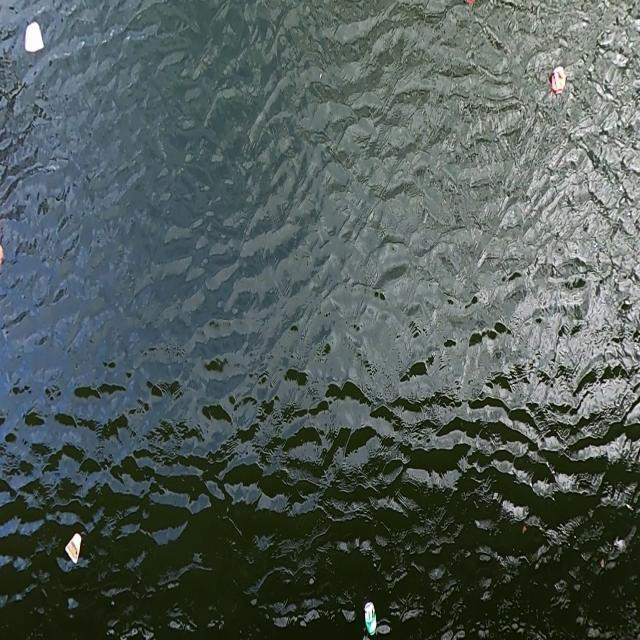Non plastique: (18, 20, 52, 59), (549, 61, 570, 106), (360, 597, 380, 640), (65, 529, 84, 570)
